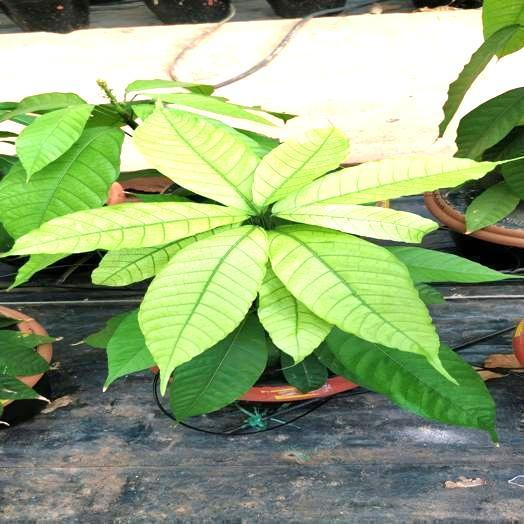Healthy Leaf: (321, 328, 496, 440), (0, 128, 122, 238), (171, 313, 267, 421), (17, 104, 93, 179), (387, 246, 517, 282), (457, 88, 523, 158), (282, 354, 326, 392)
Iron: (269, 226, 457, 384), (139, 226, 266, 392), (134, 106, 258, 214), (273, 156, 496, 211), (9, 204, 247, 254), (92, 226, 232, 285), (253, 127, 348, 206), (258, 268, 331, 362), (276, 204, 437, 242)
